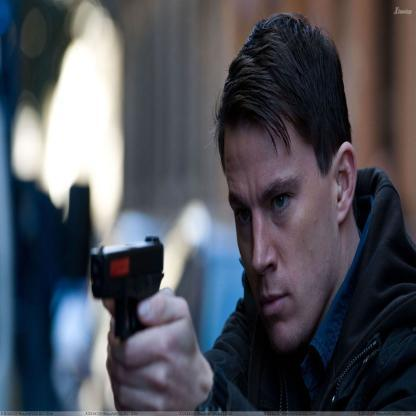Pistol: (88, 232, 169, 362)
